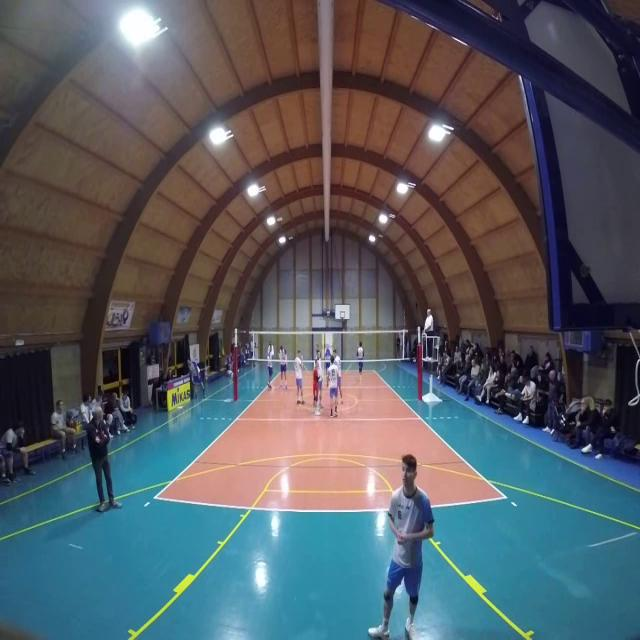serve: (380, 454, 436, 638)
